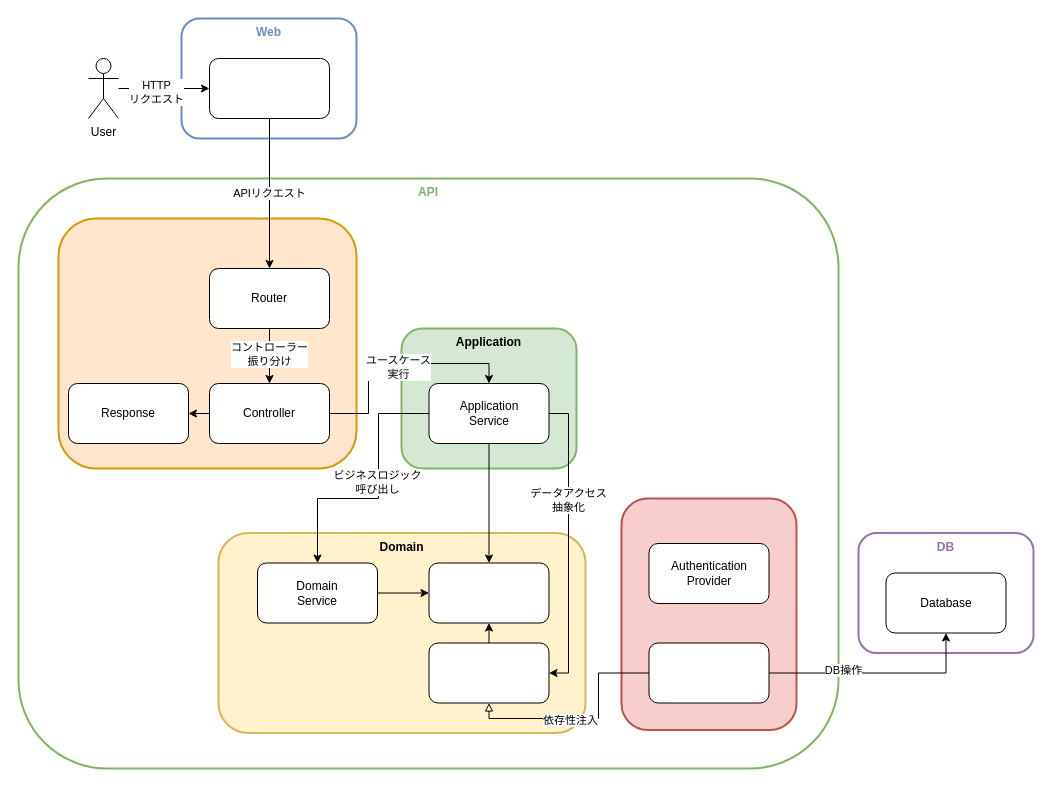
Some shapes in this 1051 by 786 pixel diagram are drawn without their labels. The shapes that lost their labels are listed below. From the top down, each one's box as (x1, y1, x2, y2) in pixels, then its label:
(208, 58, 330, 118): View
(57, 217, 357, 469): Presentation
(428, 562, 549, 623): Model
(620, 497, 797, 730): Infrastructure
(428, 642, 549, 703): Repository
(648, 642, 769, 703): Repository Impl
